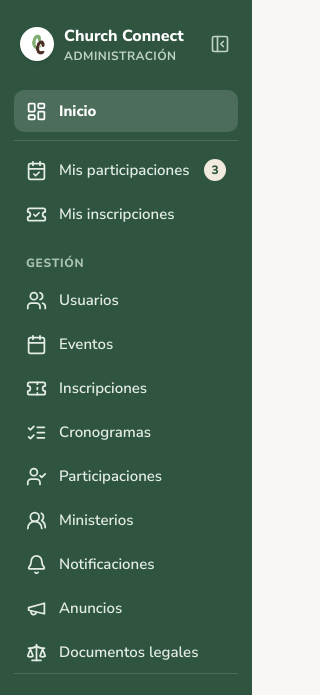
Test: AdminShell: separador y menú contraíble › al contraerlo deja solo los iconos, sin perder los nombres accesibles
Click the button named "Contraer el menú".
click(220, 44)  # box [202,26,238,62]
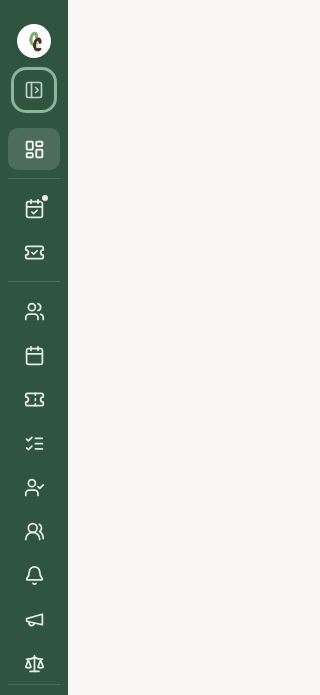
Check: the button named "Expandir el menú" is collapsed
Check: the text "GESTIÓN" is gone
Check: the text "ADMINISTRACIÓN" is gone
Click the button named "Expandir el menú".
click(34, 90)  # box [16,72,52,108]
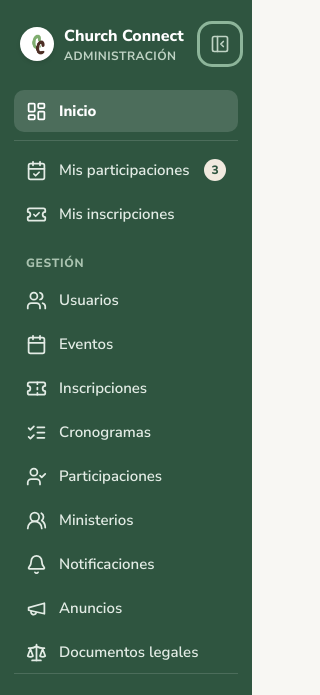
Check: the text "GESTIÓN" is shown, box [26,255,84,271]
